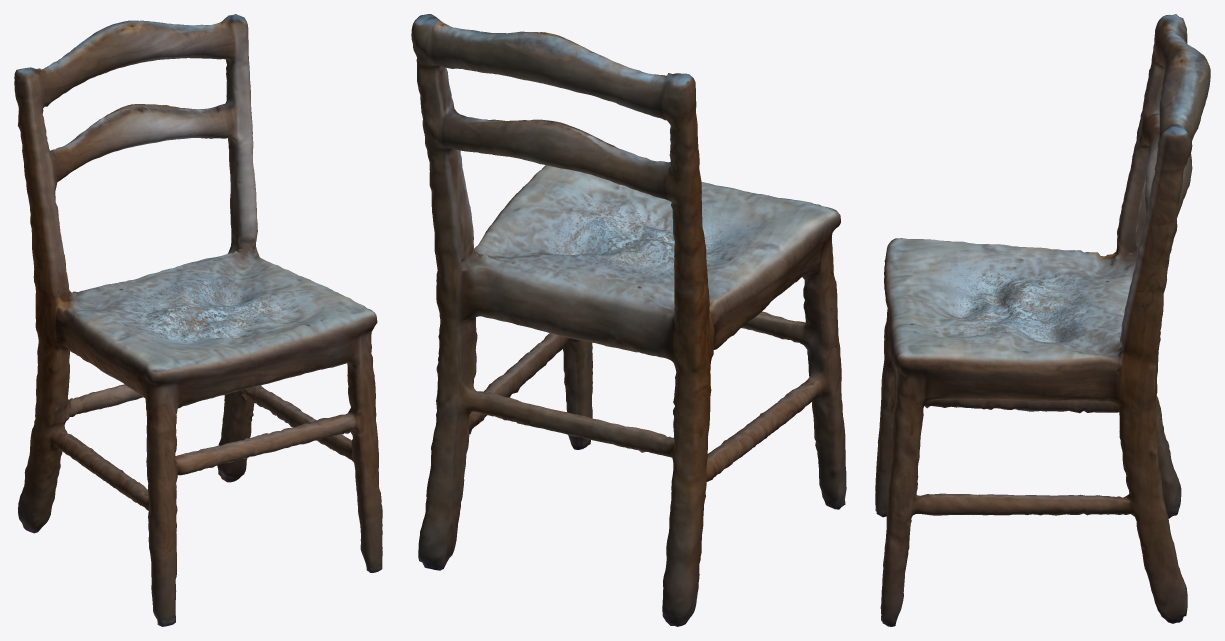
The picture shows the model from 3 angles, left to right: view 1: azimuth 30°, elevation 25°; view 2: azimuth 150°, elevation 25°; view 3: azimuth 270°, elevation 25°; orthographic projection. The views are drawn at different scales.
Parts seen in each view (by area): view 1: Mesh_0; view 2: Mesh_0; view 3: Mesh_0.
Boxes of the visible parts, x1,y1,x2,y2 form: Mesh_0: (14,14,382,626); Mesh_0: (411,14,846,626); Mesh_0: (875,14,1210,626).
Bounding box in the file's own units: 62.23 × 120 × 71.11.
1 material, 1 textured.
